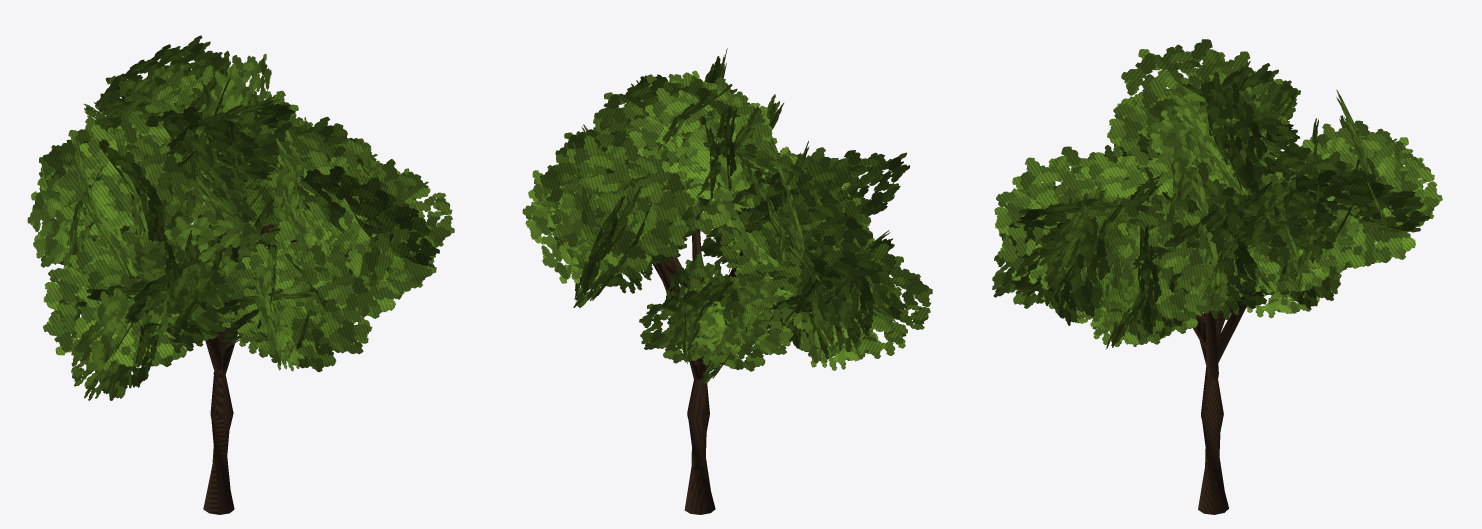
File: oak3.glb
3 renders of one model, left to right at view 1: azimuth 30°, elevation 25°; view 2: azimuth 150°, elevation 25°; view 3: azimuth 270°, elevation 25°, orthographic.
Visible parts, largest first — view 1: Rameaux feuillus oak3, Tronc et branches oak3; view 2: Rameaux feuillus oak3, Tronc et branches oak3; view 3: Rameaux feuillus oak3, Tronc et branches oak3.
Part boxes in pixels (box(x1,y1,x2,y2)): Rameaux feuillus oak3: box(27, 35, 454, 400); Tronc et branches oak3: box(197, 214, 296, 514); Rameaux feuillus oak3: box(522, 48, 932, 384); Tronc et branches oak3: box(652, 228, 775, 514); Rameaux feuillus oak3: box(992, 39, 1442, 349); Tronc et branches oak3: box(1193, 293, 1246, 514).
Bounding box in the file's own units: 16.75 × 18.22 × 18.55.
2 materials, 2 textured.
